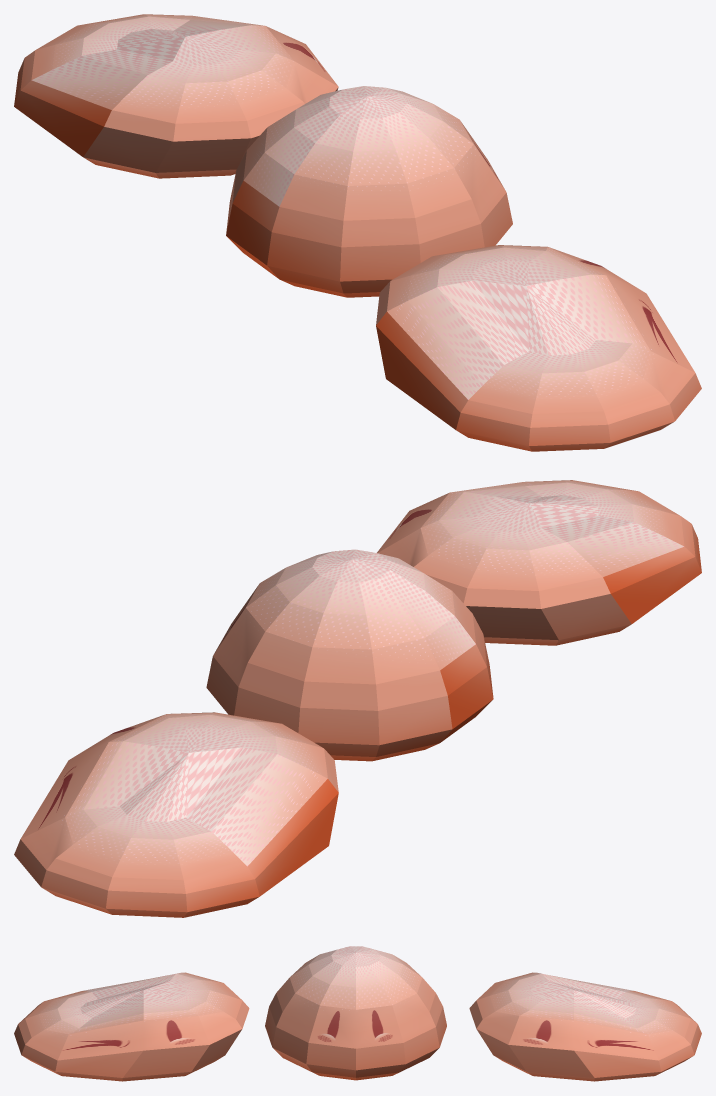
The model's file is dough.fbx.
3 views of the same model, one above another, from view 1: azimuth 30°, elevation 25°; view 2: azimuth 150°, elevation 25°; view 3: azimuth 270°, elevation 25° (orthographic). The views are drawn at different scales.
Visible parts, largest first — view 1: Dough_left, Dough1, Dough_right; view 2: Dough_right, Dough1, Dough_left; view 3: Dough_left, Dough_right, Dough1.
Part boxes in pixels (box(x1,y1,x2,y2)): Dough_left: box(376, 245, 701, 451); Dough1: box(226, 86, 512, 297); Dough_right: box(14, 14, 338, 178); Dough_right: box(14, 712, 338, 917); Dough1: box(206, 549, 493, 761); Dough_left: box(377, 480, 701, 645); Dough_left: box(14, 972, 249, 1081); Dough_right: box(469, 972, 701, 1081); Dough1: box(265, 946, 446, 1080).
Size of the model in its own units: 10.63 by 6.37 by 39.01.
